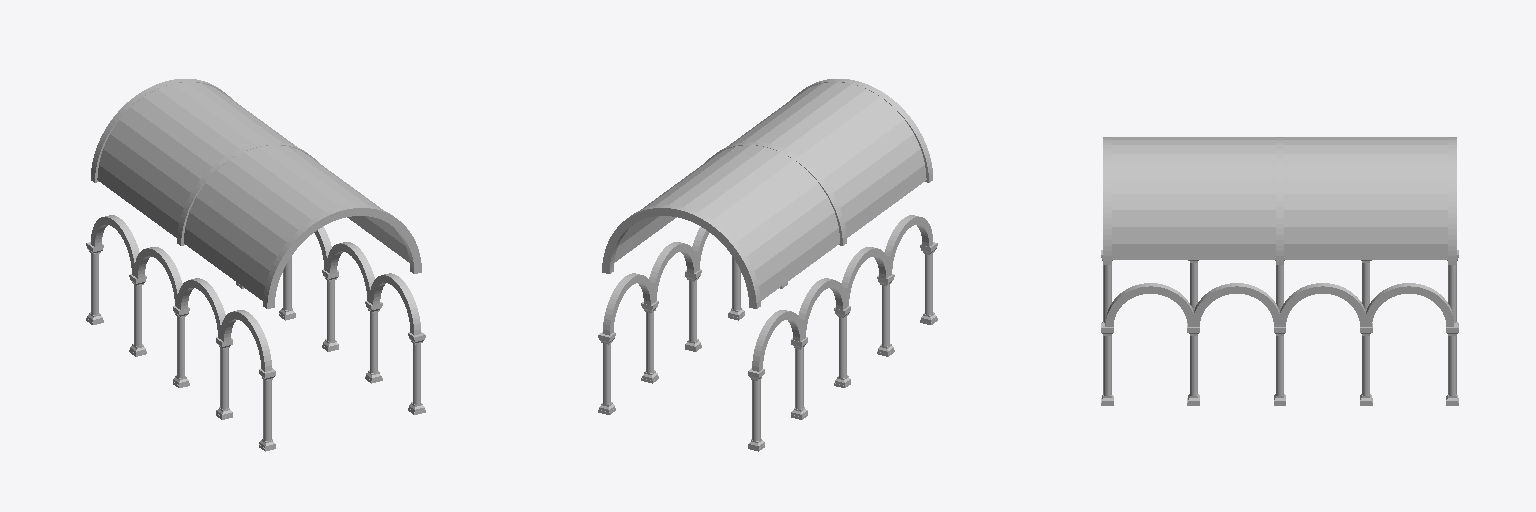
File: Room.obj
3 renders of one model, left to right at view 1: azimuth 30°, elevation 25°; view 2: azimuth 150°, elevation 25°; view 3: azimuth 270°, elevation 25°, orthographic.
Visible parts, largest first — view 1: Cylinder_Cylinder.007, Cylinder.004_Cylinder.008, BigArc_Cube.011, SmallArc.003_Cube.017, SmallArc.004_Cube.018, Cube.008_Cube.013, Cube.001_Cube.012, SmallArc.002_Cube.016, SmallArc_Cube.014, SmallArc.001_Cube.015, SmallArc.006_Cube.020, Cylinder_Cylinder.002 (+1 smaller); view 2: Cylinder.004_Cylinder.008, Cylinder_Cylinder.007, Cube.008_Cube.013, SmallArc.002_Cube.016, SmallArc.005_Cube.019, Cube.001_Cube.012, BigArc_Cube.011, SmallArc.001_Cube.015, SmallArc.003_Cube.017, SmallArc.007_Cube.021, SmallArc_Cube.014, Cylinder_Cylinder.006_Cylinder_Cylinder.007 (+1 smaller); view 3: Cylinder.004_Cylinder.008, Cylinder_Cylinder.007, SmallArc.004_Cube.018, SmallArc.007_Cube.021, SmallArc.005_Cube.019, SmallArc.006_Cube.020, Cube.008_Cube.013, BigArc_Cube.011, Cube.001_Cube.012, Cylinder_Cylinder.001, Cylinder_Cylinder.005_Cylinder_Cylinder.006.
Boxes of the visible parts, box(x1,y1,x2,y2) form: Cylinder_Cylinder.007: box(184, 145, 409, 300); Cylinder.004_Cylinder.008: box(97, 82, 296, 237); BigArc_Cube.011: box(263, 205, 421, 308); SmallArc.003_Cube.017: box(220, 310, 271, 371); SmallArc.004_Cube.018: box(369, 273, 420, 335); Cube.008_Cube.013: box(91, 79, 232, 182); Cube.001_Cube.012: box(177, 142, 317, 245); SmallArc.002_Cube.016: box(91, 215, 139, 276); SmallArc_Cube.014: box(134, 247, 182, 308); SmallArc.001_Cube.015: box(177, 278, 225, 338); SmallArc.006_Cube.020: box(326, 242, 374, 301); Cylinder_Cylinder.002: box(263, 379, 271, 440); Cylinder.004_Cylinder.008: box(614, 145, 839, 300); Cylinder_Cylinder.007: box(727, 82, 926, 237); Cube.008_Cube.013: box(602, 205, 760, 308); SmallArc.002_Cube.016: box(752, 310, 803, 371); SmallArc.005_Cube.019: box(603, 273, 654, 335); Cube.001_Cube.012: box(706, 142, 846, 245); BigArc_Cube.011: box(791, 79, 932, 182); SmallArc.001_Cube.015: box(841, 247, 889, 308); SmallArc.003_Cube.017: box(884, 215, 932, 275); SmallArc.007_Cube.021: box(649, 242, 697, 301); SmallArc_Cube.014: box(798, 278, 846, 339); Cylinder_Cylinder.006_Cylinder_Cylinder.007: box(752, 379, 760, 440); Cylinder.004_Cylinder.008: box(1278, 137, 1450, 259); Cylinder_Cylinder.007: box(1106, 137, 1277, 259); SmallArc.004_Cube.018: box(1105, 283, 1195, 326); SmallArc.007_Cube.021: box(1278, 283, 1367, 326); SmallArc.005_Cube.019: box(1365, 283, 1453, 326); SmallArc.006_Cube.020: box(1192, 283, 1281, 326); Cube.008_Cube.013: box(1448, 137, 1456, 264); BigArc_Cube.011: box(1103, 137, 1111, 264); Cube.001_Cube.012: box(1276, 137, 1283, 264); Cylinder_Cylinder.001: box(1103, 336, 1111, 395); Cylinder_Cylinder.005_Cylinder_Cylinder.006: box(1448, 336, 1456, 395).
Bounding box in the file's own units: 10.75 × 14.16 × 20.75.